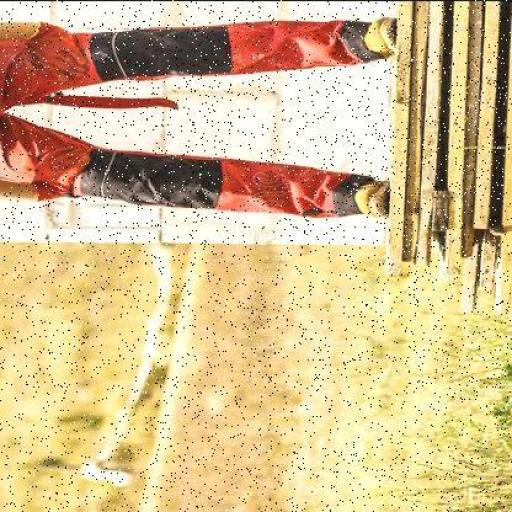safety_shoe: (342, 165, 394, 226), (360, 15, 404, 60)
